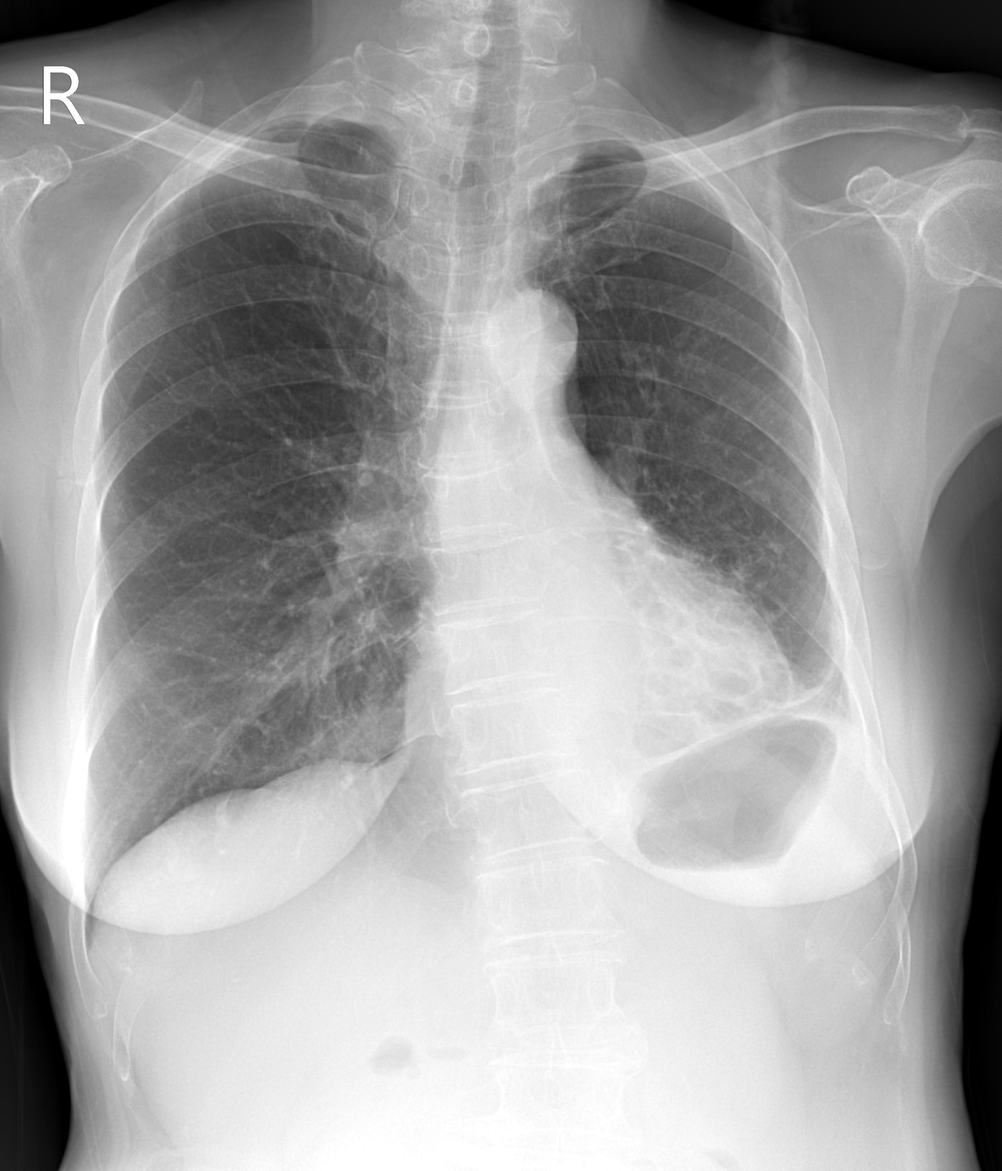Pleural thickening: (616, 442, 840, 737), (523, 119, 684, 179), (832, 688, 878, 809), (267, 104, 412, 135)
Pulmonary fibrosis: (573, 218, 689, 378)
